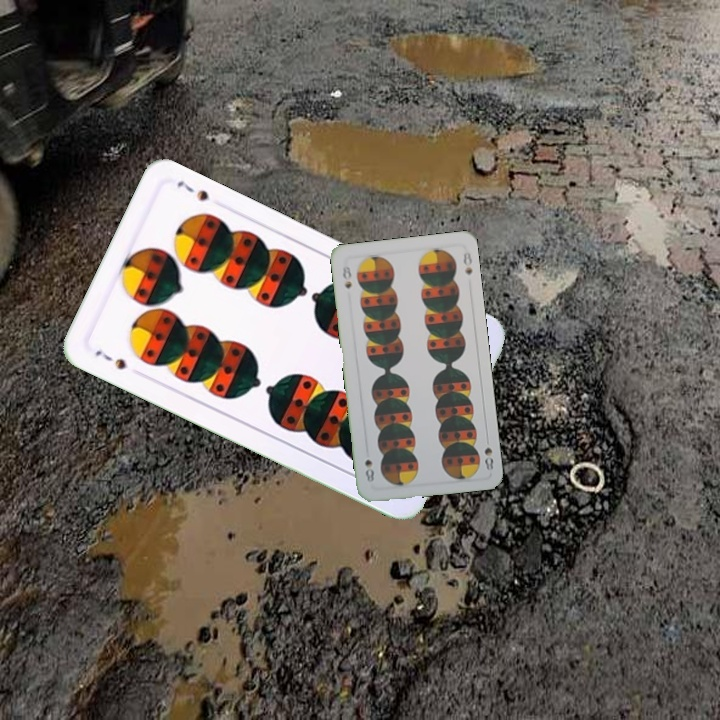S7: (91, 346, 129, 373)
S8: (480, 432, 496, 473), (338, 262, 354, 292)
